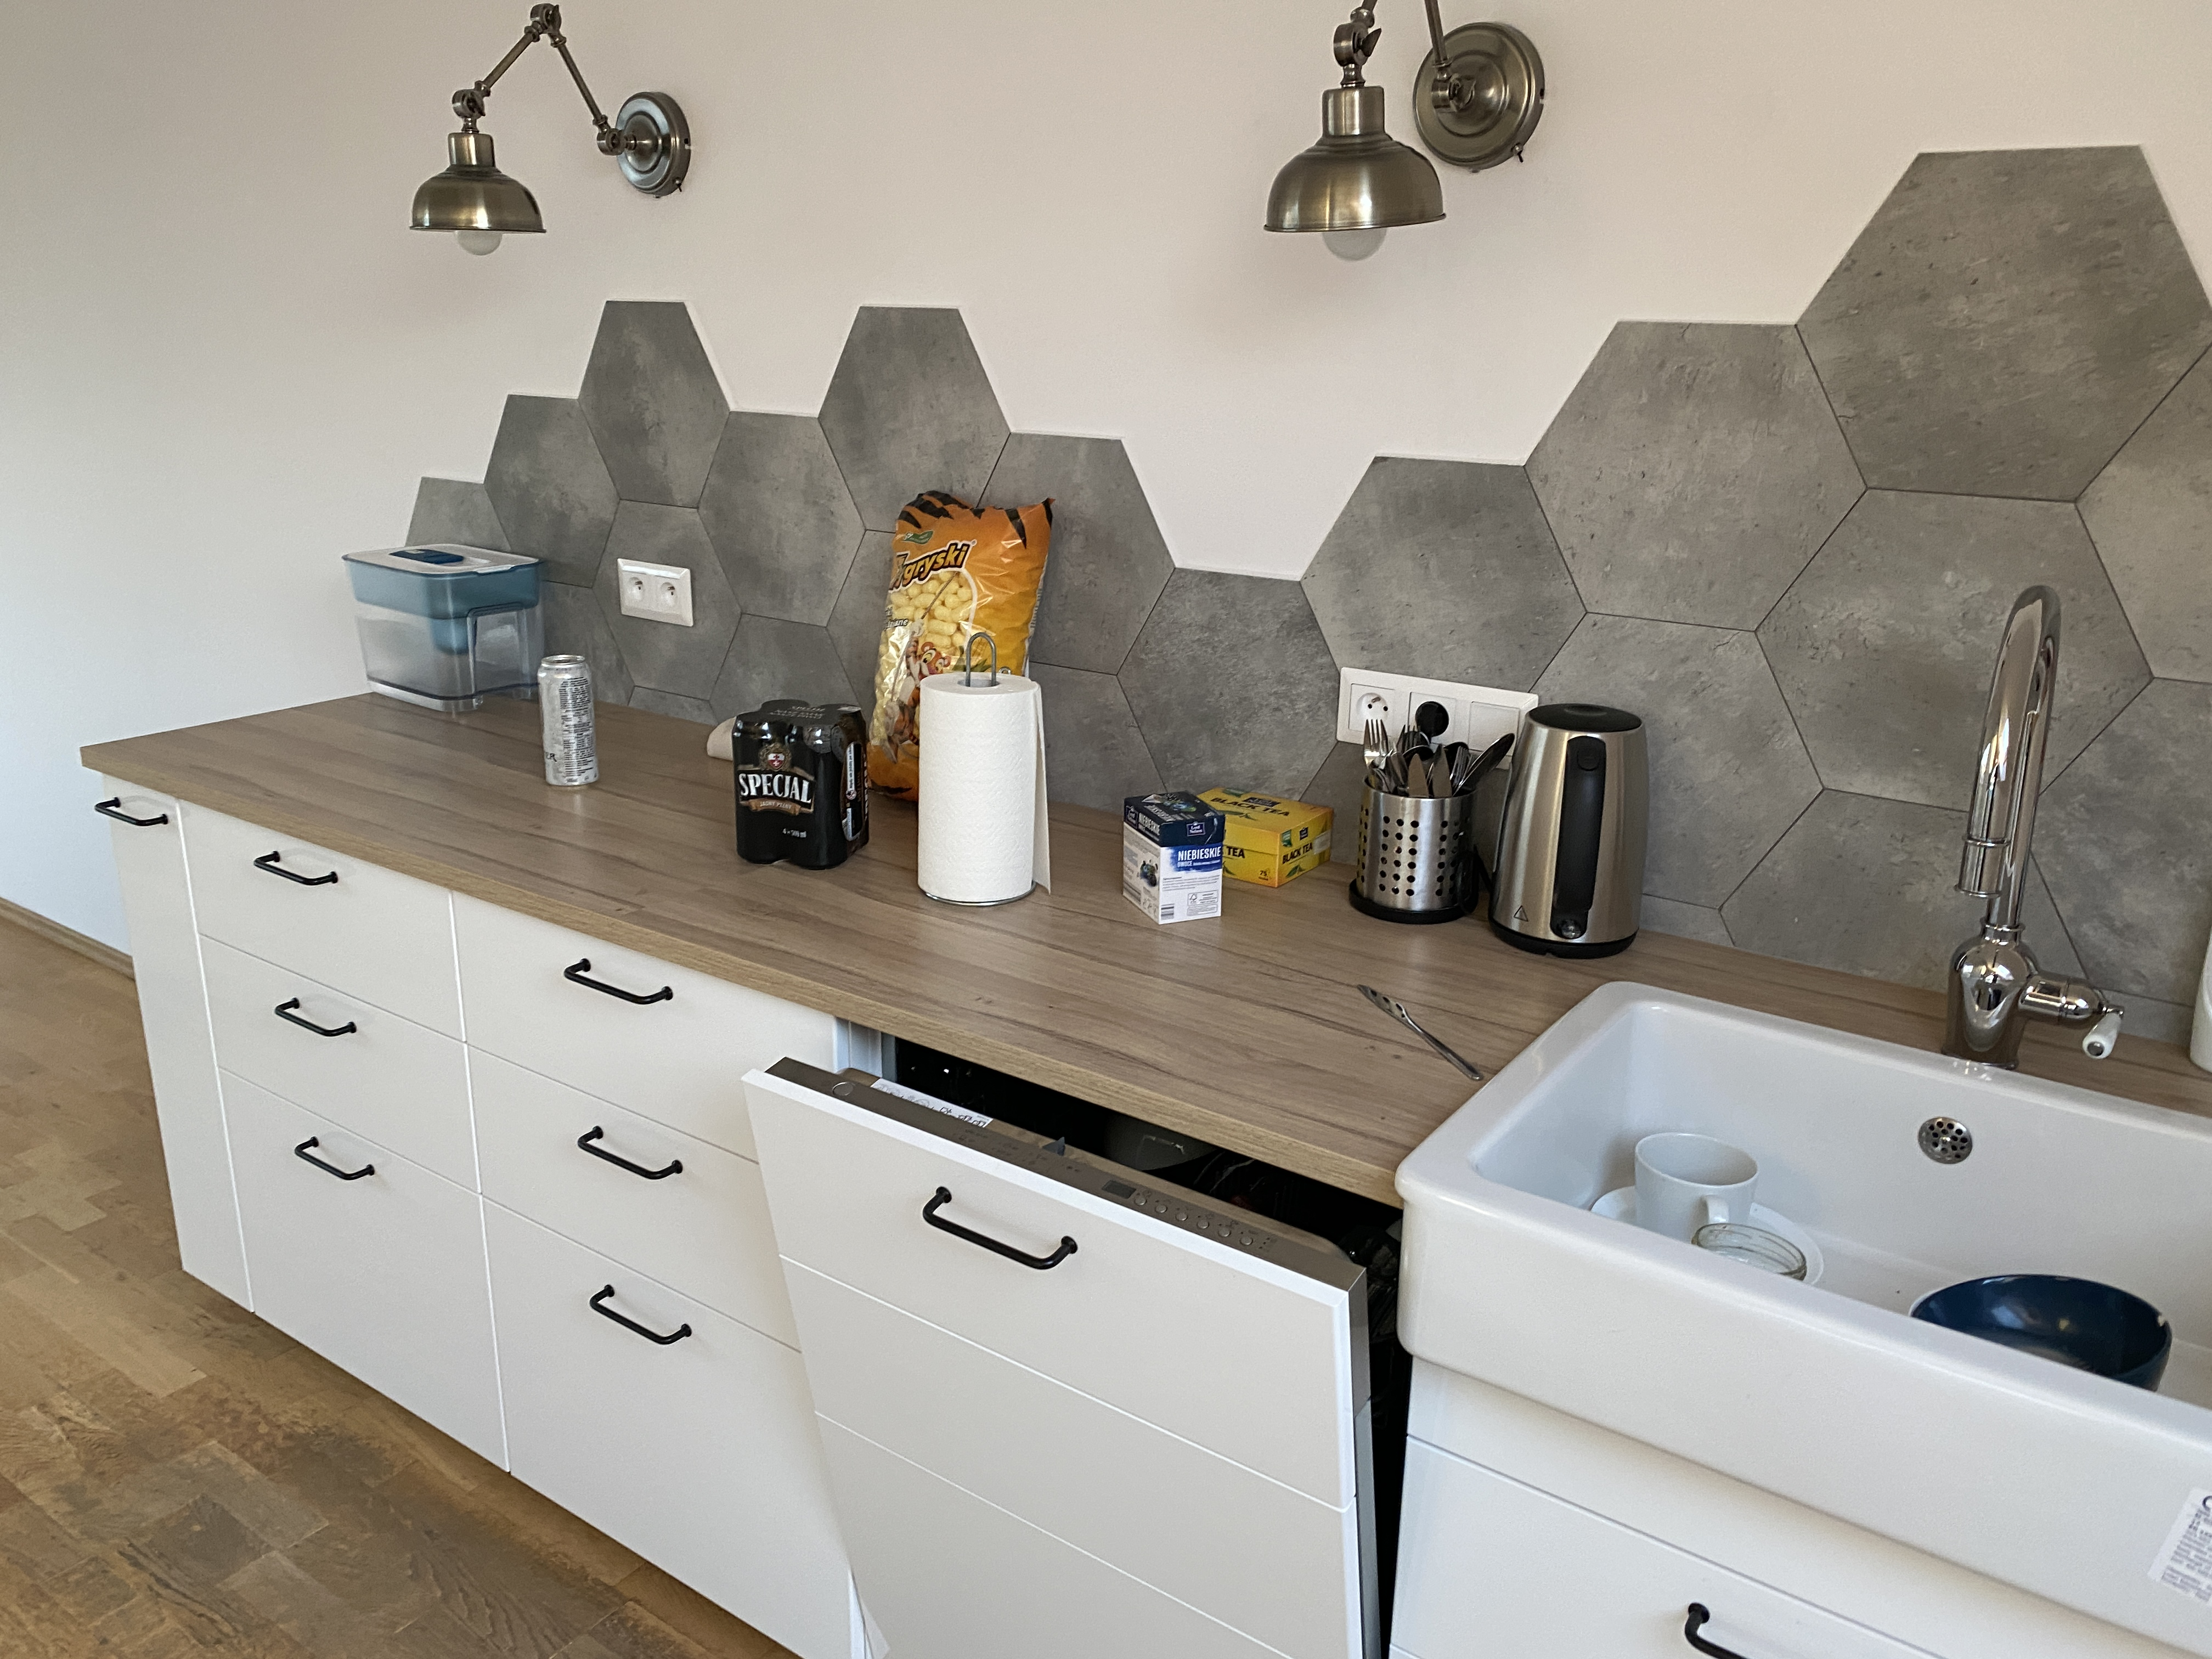specjal: (730, 702, 873, 873)
